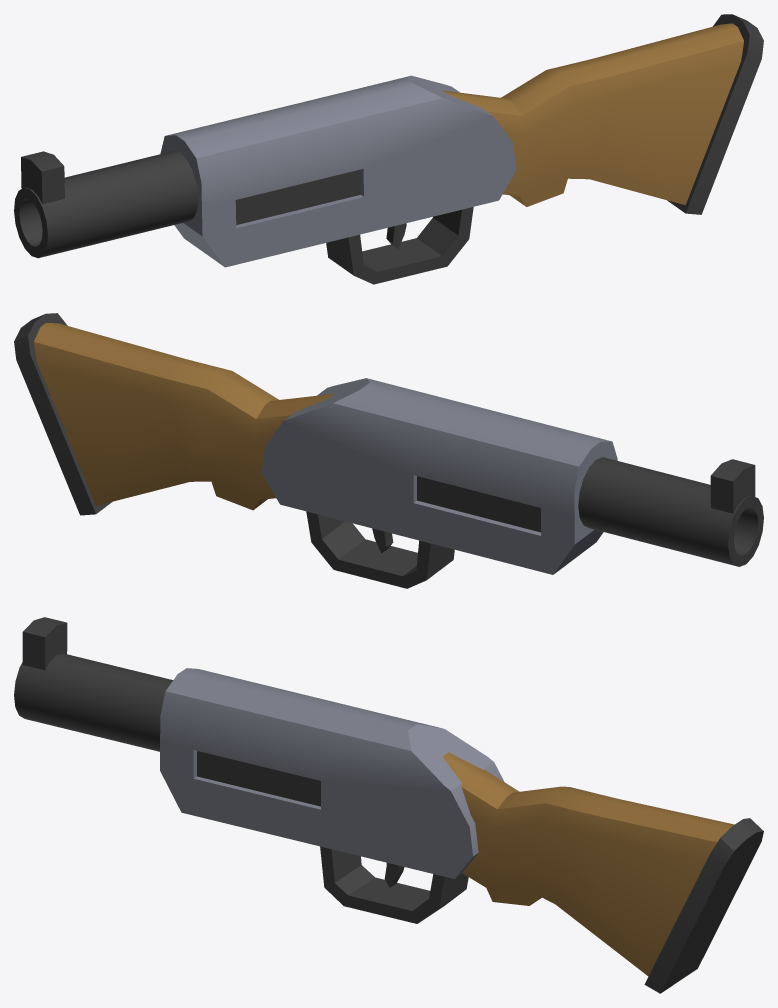
File: Short Cannon.glb
3 views of the same model, one above another, from view 1: azimuth 30°, elevation 25°; view 2: azimuth 150°, elevation 25°; view 3: azimuth 330°, elevation 25° (orthographic).
Visible parts, largest first — view 1: Short Cannon; view 2: Short Cannon; view 3: Short Cannon.
Part boxes in pixels (bbox=[...]): Short Cannon: bbox=[14, 14, 763, 284]; Short Cannon: bbox=[14, 313, 763, 588]; Short Cannon: bbox=[14, 617, 763, 993].
Size of the model in its own units: 1.21 by 0.3141 by 0.1318.
